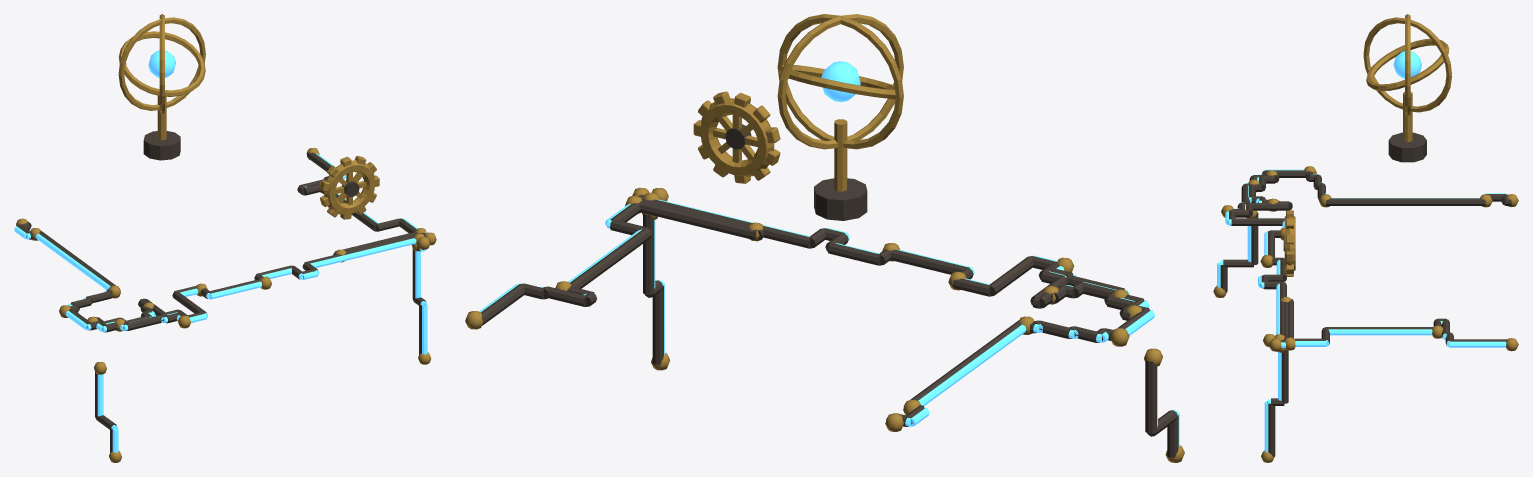
File: forge-dress.glb
3 views of the same model, side by side, from view 1: azimuth 30°, elevation 25°; view 2: azimuth 150°, elevation 25°; view 3: azimuth 270°, elevation 25° (orthographic). The views are drawn at different scales.
Visible parts, largest first — view 1: forge-dress; view 2: forge-dress; view 3: forge-dress.
Part boxes in pixels (<box>): forge-dress: <box>14,14,436,462</box>; forge-dress: <box>465,14,1184,462</box>; forge-dress: <box>1213,14,1518,462</box>.
Size of the model in its own units: 2.64 by 2.4 by 1.91.
